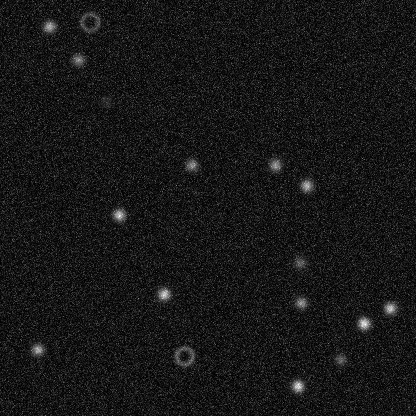Ring: (172, 344, 196, 368), (77, 10, 101, 34)
Spot: (110, 206, 126, 222), (183, 156, 199, 172), (289, 377, 305, 393), (70, 51, 86, 67), (267, 156, 283, 172), (291, 254, 307, 270), (29, 341, 45, 357), (293, 294, 309, 310), (41, 18, 57, 34), (332, 351, 348, 367), (98, 92, 114, 108), (355, 315, 371, 331), (298, 177, 314, 193), (382, 300, 398, 316), (155, 286, 171, 302)
